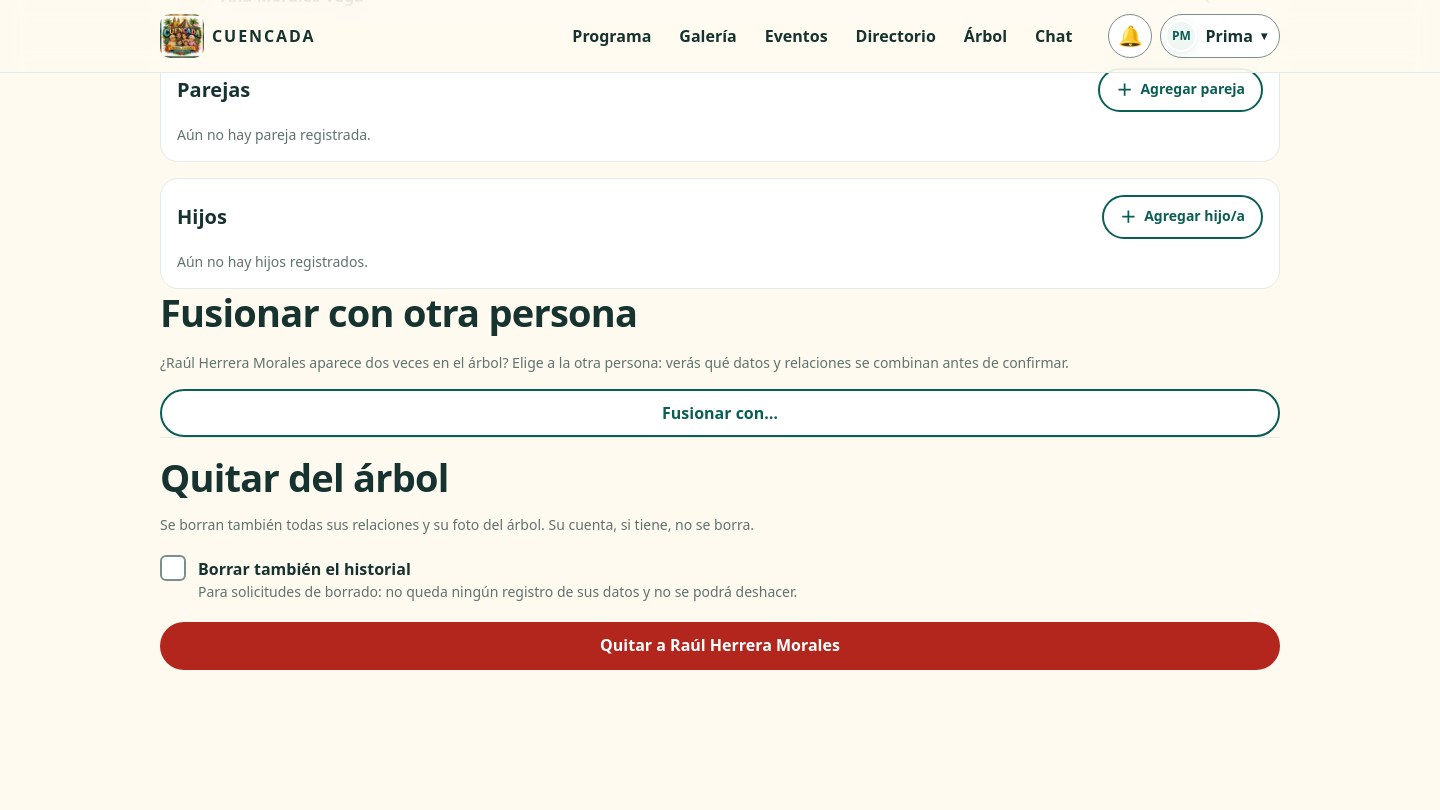
Test: AdminPersonPage · Fusionar con… › searches the duplicate, previews with this person kept, and can swap who stays
(page scrolled)
Click the button "Fusionar con…" at (720, 413), box [160,389,1280,437]
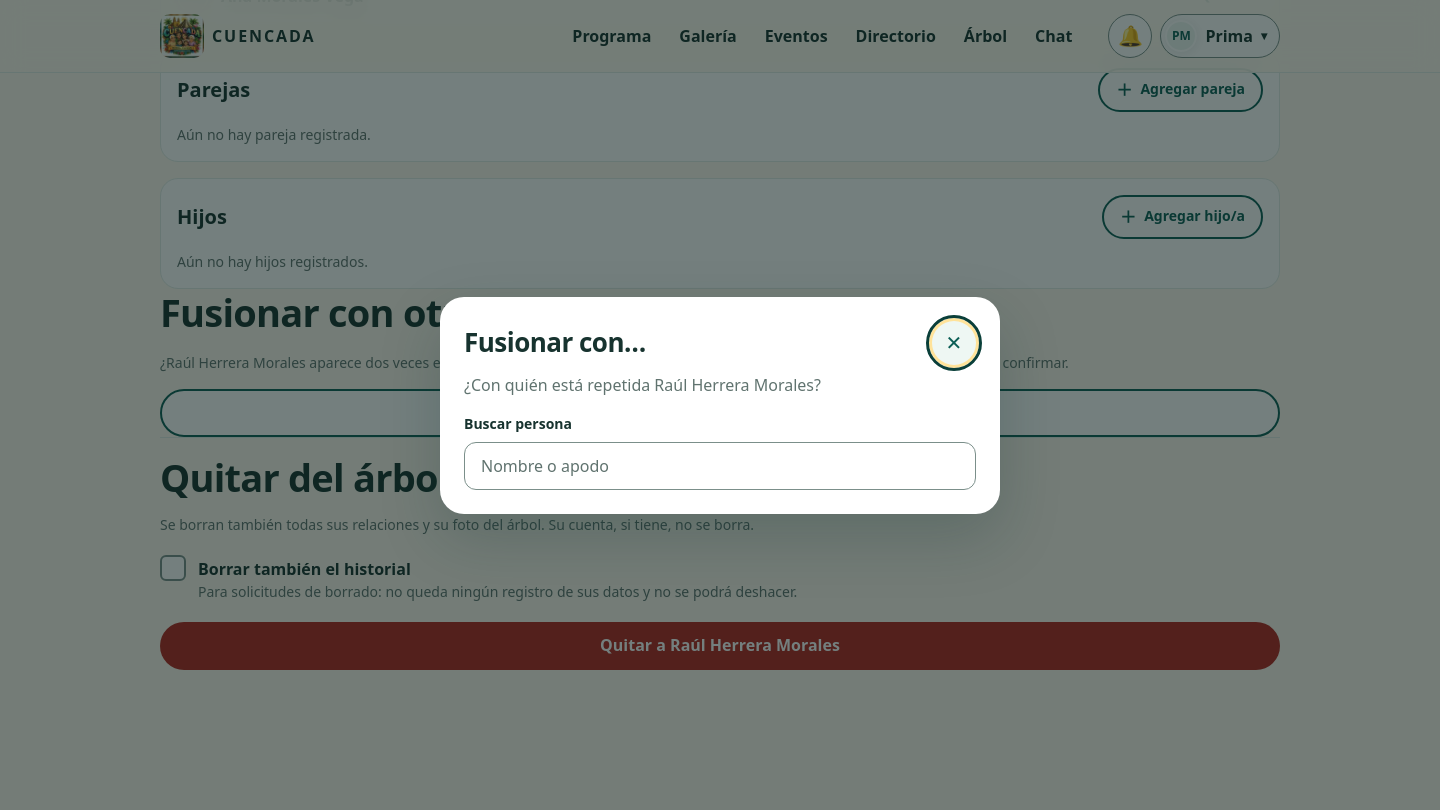
Type "Raúl Herrera" into the search field labelled "Buscar persona" at (720, 466), box [464,442,976,490]
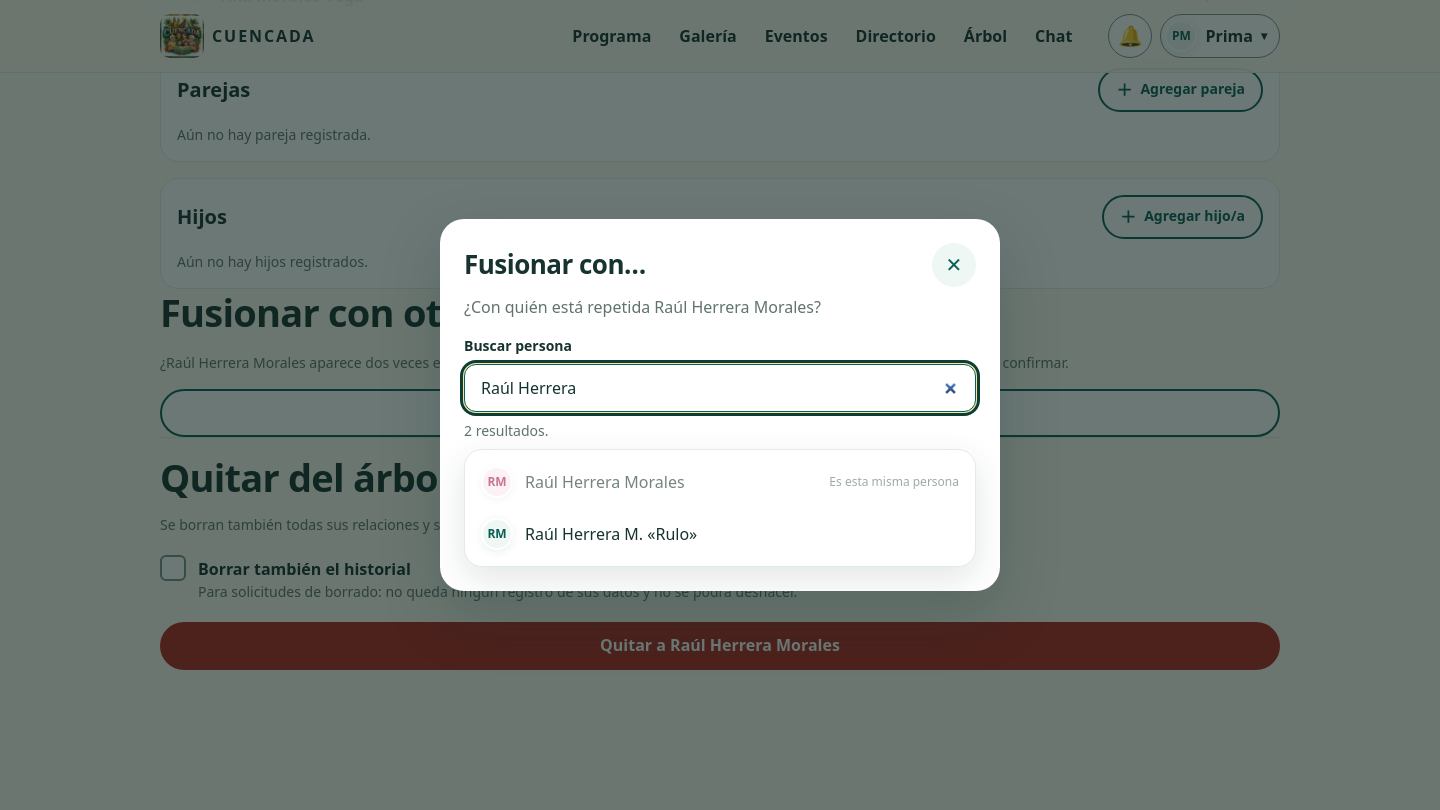
Click the button with aria-label "Elegir a Raúl Herrera M." at (497, 534), box [473,510,967,558]
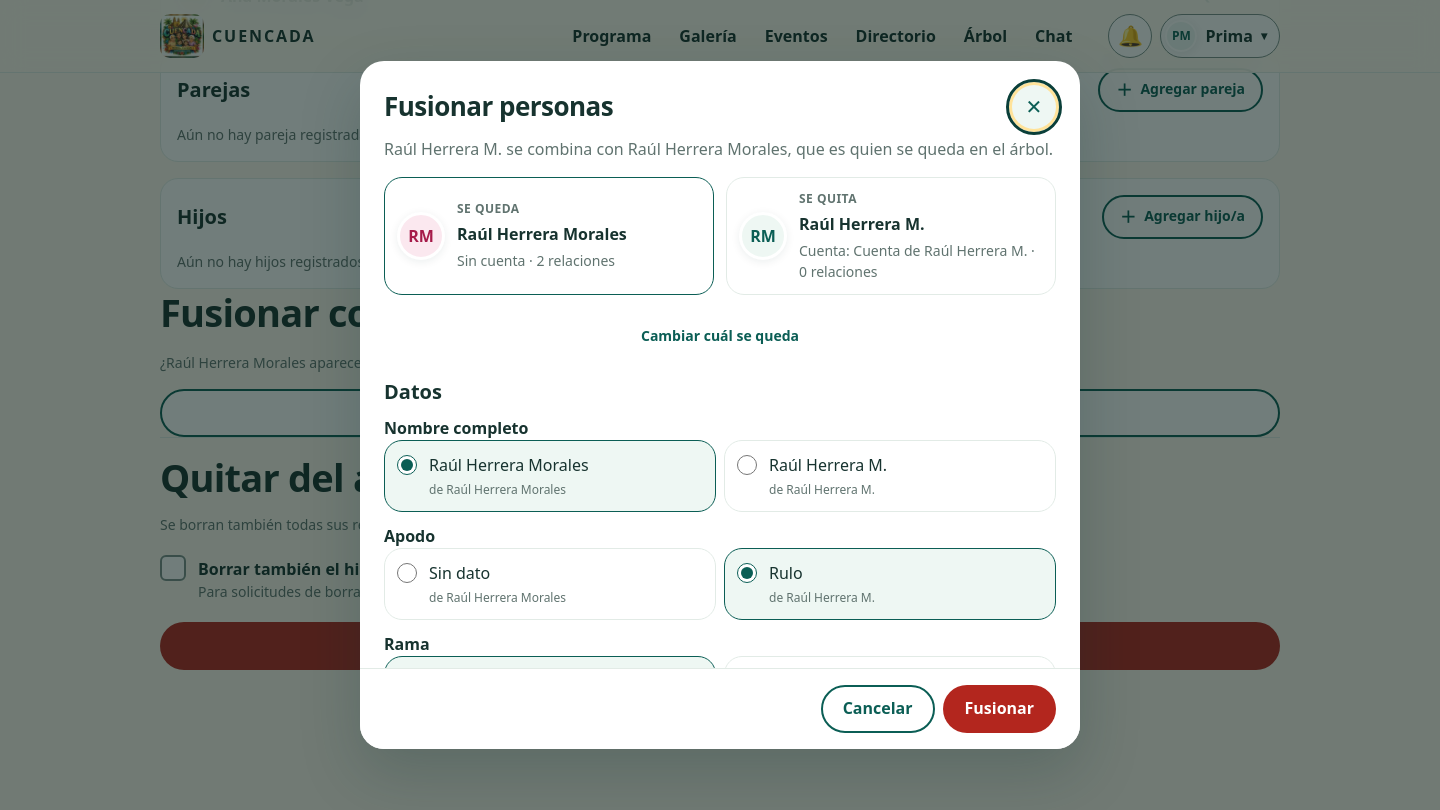
Expected: the text "Raúl Herrera M. se combina con Raúl Herrera Morales, que es quien se queda en el árbol." is shown, [384,138,1053,160]
Click the button "Cambiar cuál se queda" at (720, 337), box [384,315,1056,359]
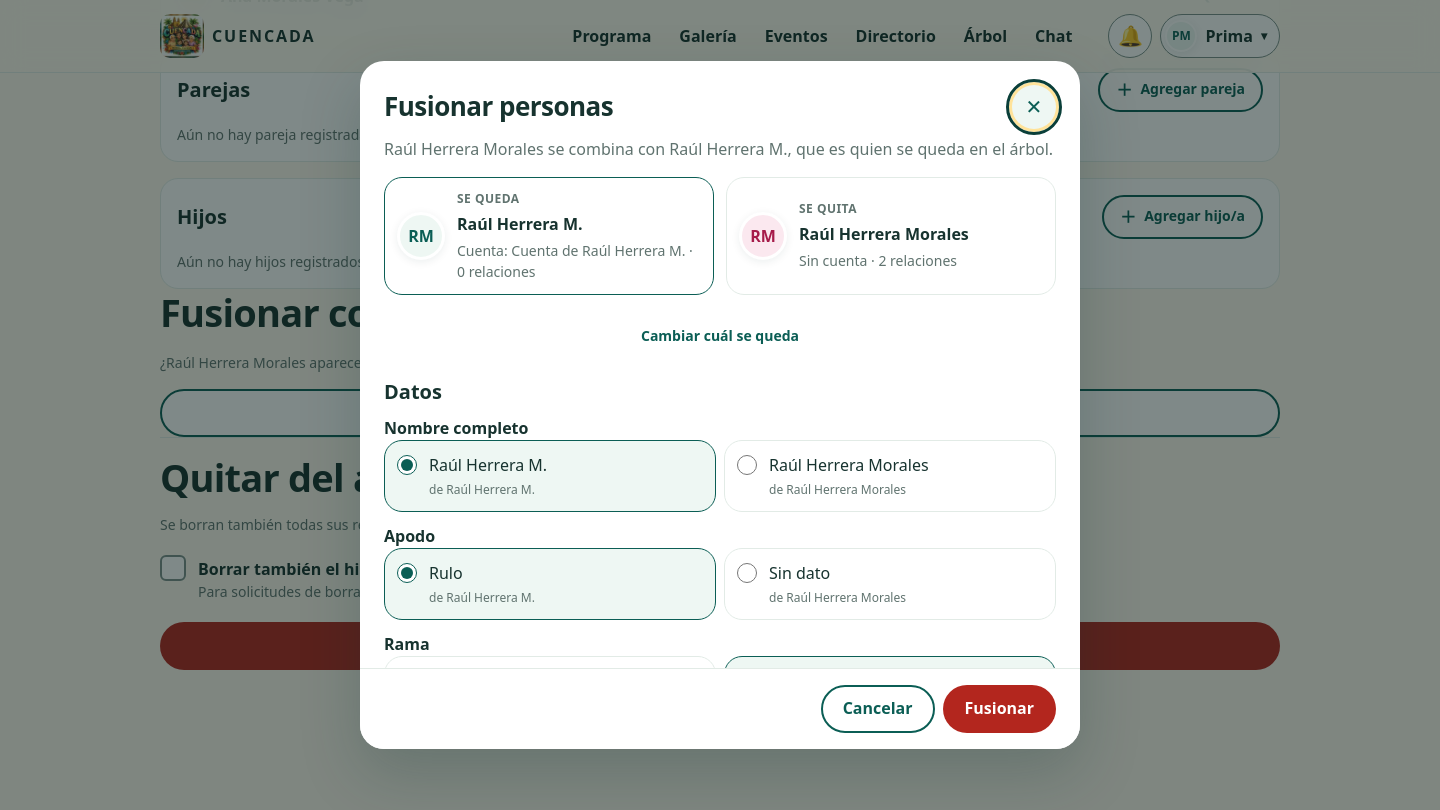
Expected: the text "Raúl Herrera Morales se combina con Raúl Herrera M., que es quien se queda en el árbol." is shown, [384,138,1053,160]
